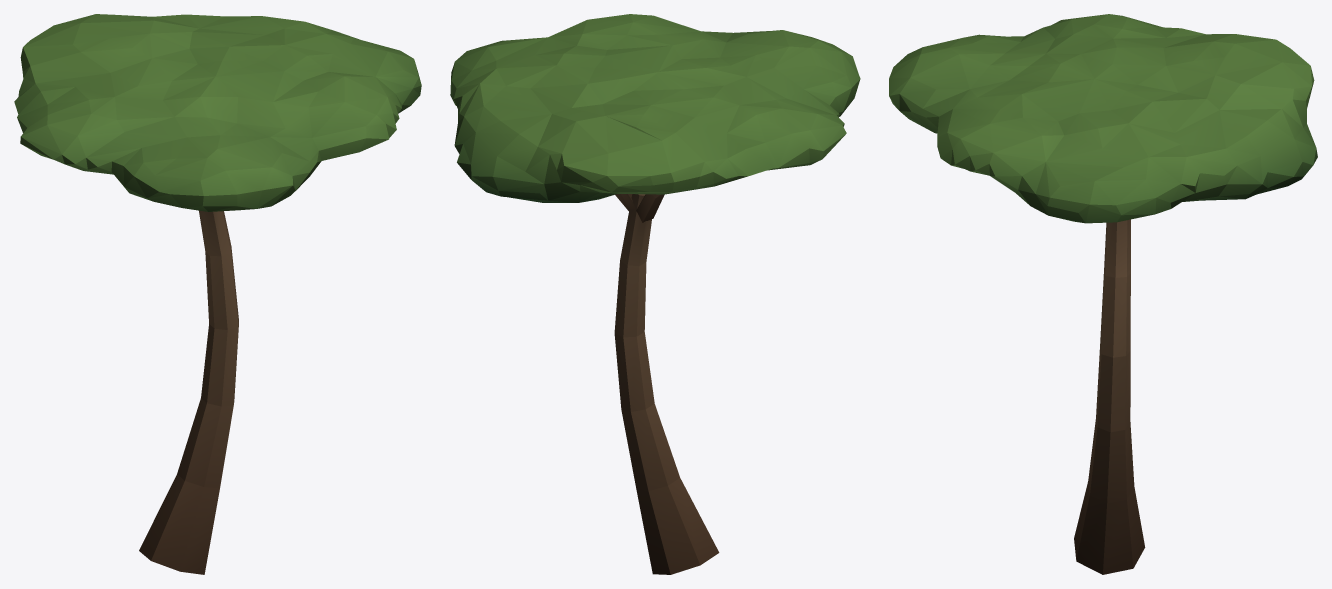
File: pinia_0.glb
The picture shows the model from 3 angles, left to right: view 1: azimuth 30°, elevation 25°; view 2: azimuth 150°, elevation 25°; view 3: azimuth 270°, elevation 25°; orthographic projection. The views are drawn at different scales.
Visible parts, largest first — view 1: pinia_0; view 2: pinia_0; view 3: pinia_0.
Boxes of the visible parts, x1,y1,x2,y2 form: pinia_0: (14,14,421,574); pinia_0: (450,14,860,574); pinia_0: (889,14,1317,574).
Bounding box in the file's own units: 2.03 × 2.54 × 1.97.
